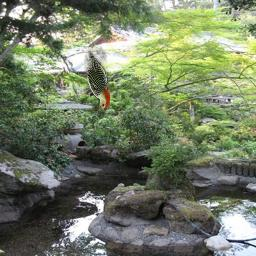Woodpecker: (75, 39, 110, 112)
